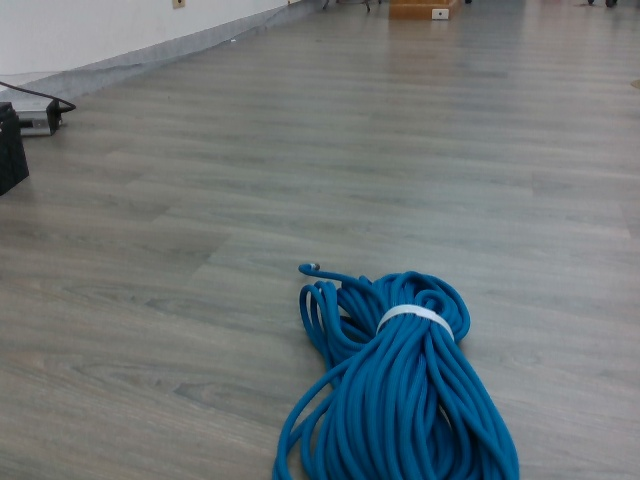rope: (279, 259, 523, 480)
